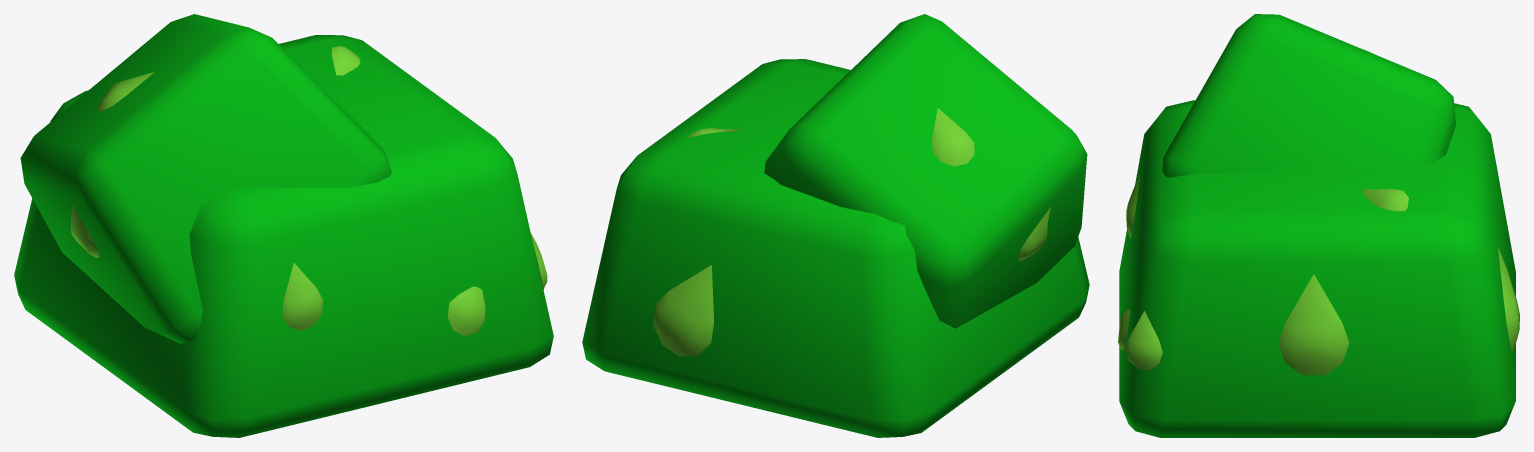
Rendered from bush-squared.fbx.
3 renders of one model, left to right at view 1: azimuth 30°, elevation 25°; view 2: azimuth 150°, elevation 25°; view 3: azimuth 270°, elevation 25°, orthographic. The views are drawn at different scales.
Parts seen in each view (by area): view 1: bush-squared; view 2: bush-squared; view 3: bush-squared.
Boxes of the visible parts, left/top/right/bottom form: bush-squared: left=14, top=14, right=553, bottom=437; bush-squared: left=582, top=14, right=1089, bottom=437; bush-squared: left=1118, top=14, right=1519, bottom=437.
Size of the model in its own units: 1.19 by 0.9402 by 1.07.
